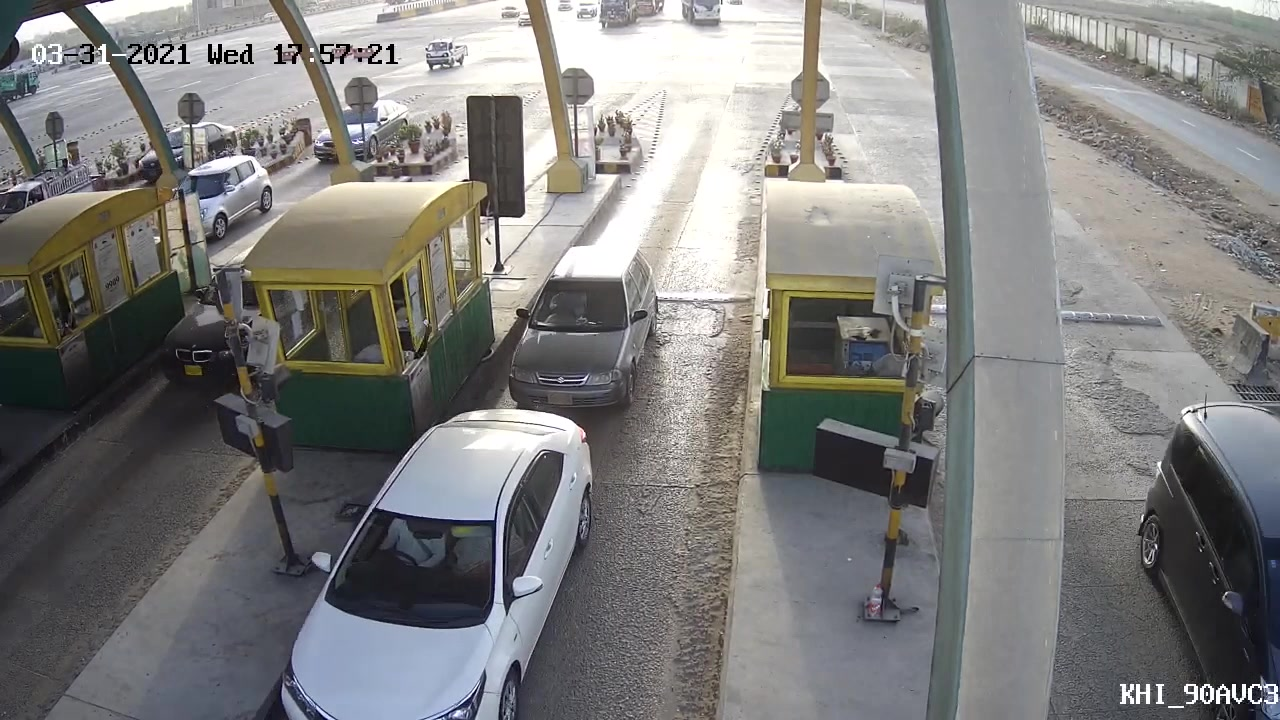F1: (500, 238, 667, 410)
